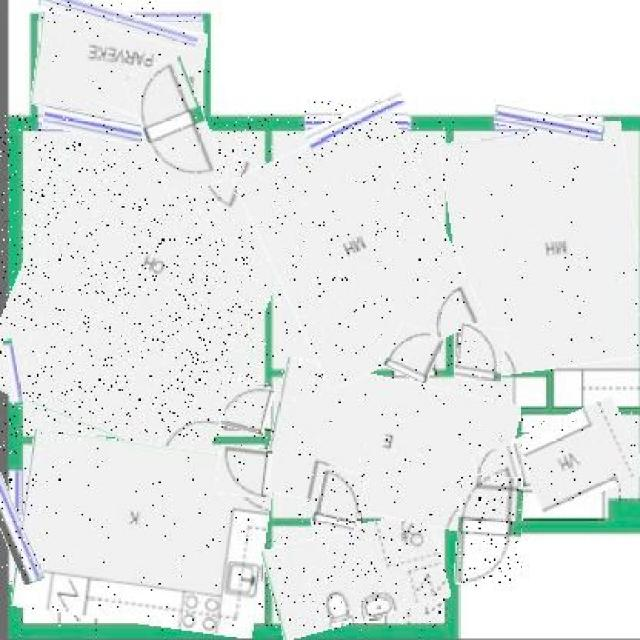door: (134, 58, 217, 195), (456, 474, 522, 586), (314, 469, 363, 534), (388, 326, 442, 380), (456, 324, 506, 382), (474, 444, 529, 496), (217, 446, 272, 497), (224, 381, 270, 434)
window: (37, 0, 198, 40), (304, 102, 408, 142), (0, 470, 34, 584), (494, 111, 604, 138), (43, 111, 143, 140), (6, 339, 22, 406)
zone: (0, 114, 288, 454), (253, 120, 464, 377), (17, 437, 269, 631), (447, 124, 640, 372), (266, 369, 516, 526), (266, 517, 448, 631), (34, 15, 206, 121), (517, 406, 640, 508)
